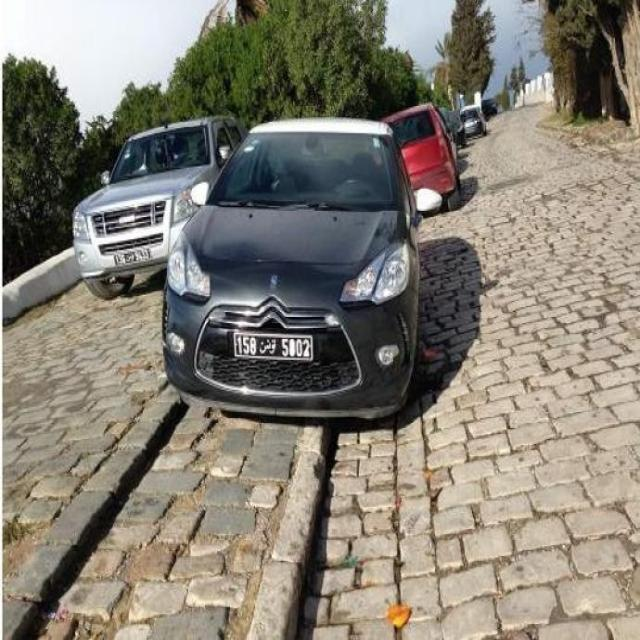LP: (232, 328, 315, 365)
